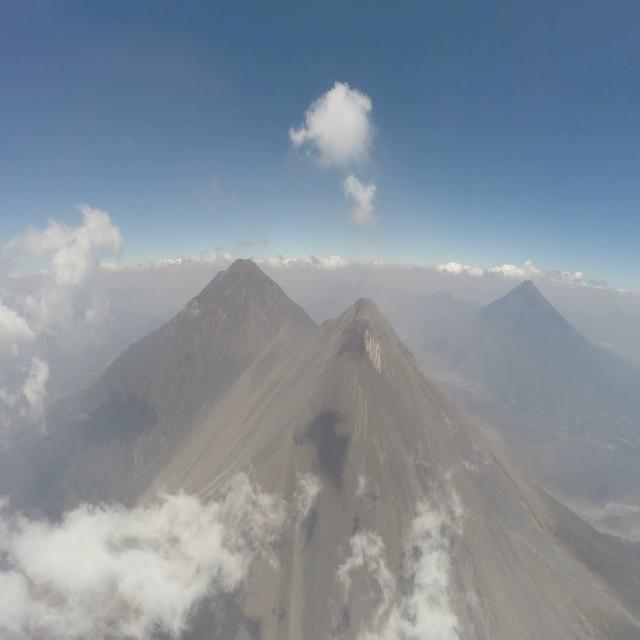Summit: (320, 292, 420, 378)
